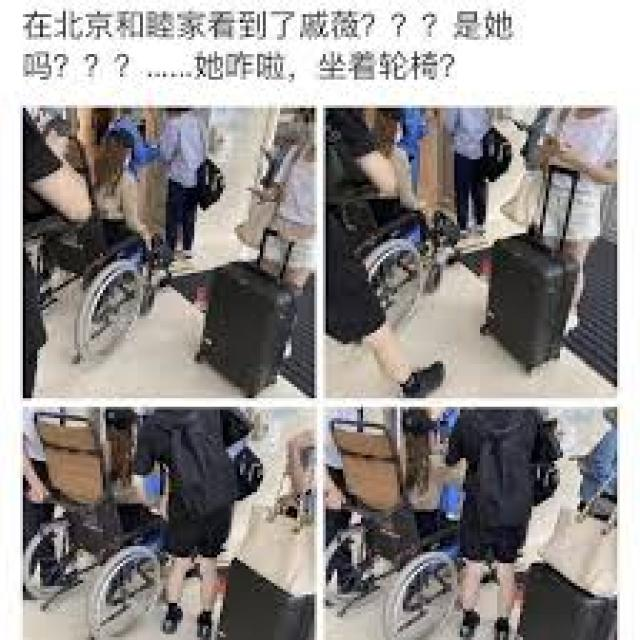wheelchairs: (20, 407, 166, 637), (320, 412, 466, 634), (40, 125, 163, 356), (326, 114, 443, 327)
